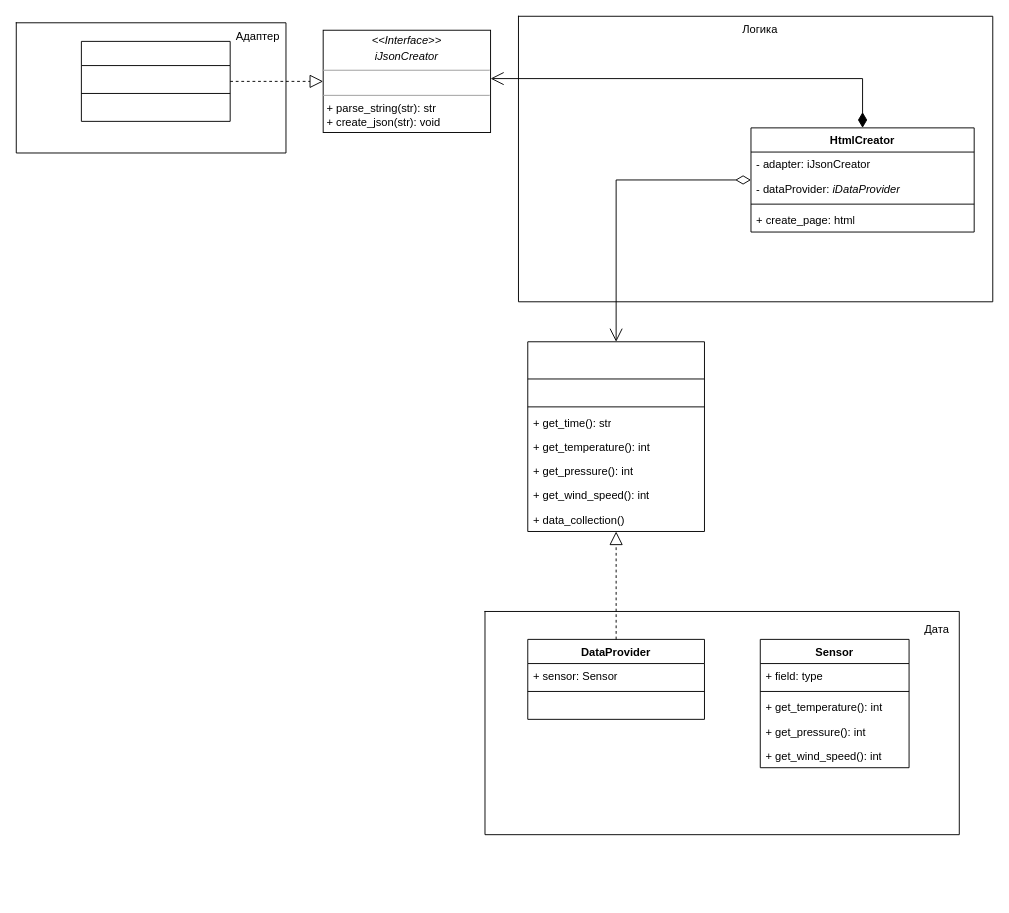
This 1009x913 diagram has some shape labels left out. Each missing label, with the box of its shape:
<<Interface>> DataProvider: (527, 341, 704, 531)
JsonCreator: (80, 40, 230, 121)
